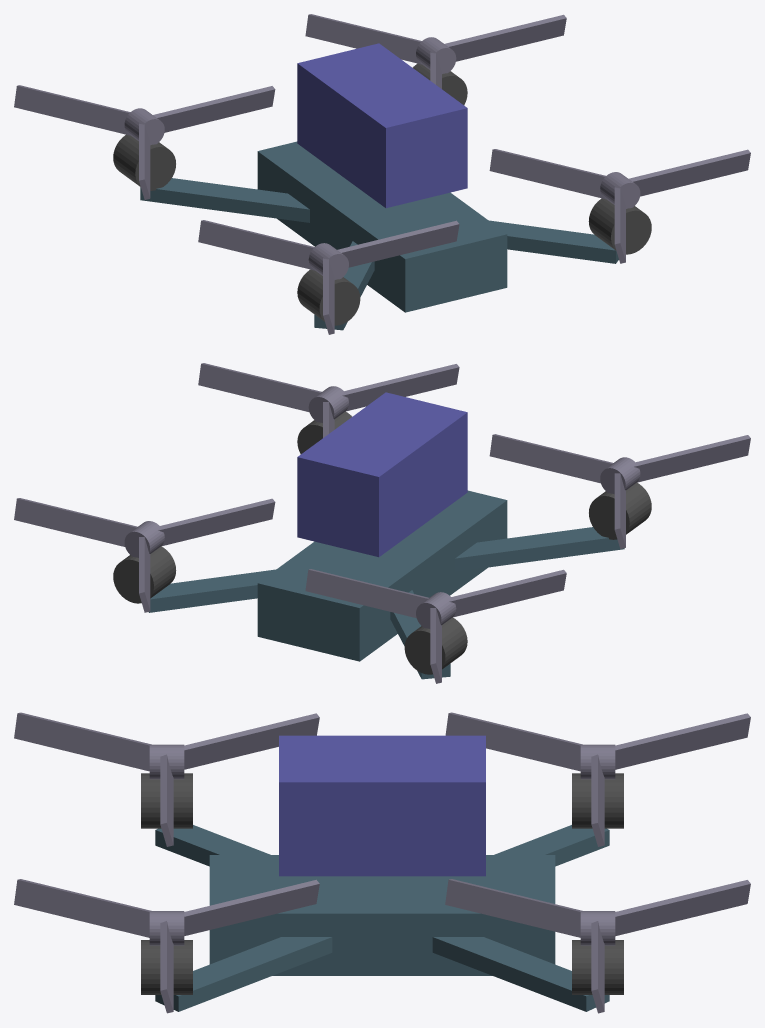
Rendered from Switchback Zero.glb.
3 renders of one model, top to bottom at view 1: azimuth 30°, elevation 25°; view 2: azimuth 150°, elevation 25°; view 3: azimuth 270°, elevation 25°, orthographic. The views are drawn at different scales.
Visible parts, largest first — view 1: battery, frame_body, prop_2, prop_3, prop_0, prop_1, arm_3, arm_0, motor_2, motor_3, motor_0, arm_2 (+1 smaller); view 2: battery, frame_body, prop_1, prop_3, prop_2, prop_0, arm_2, arm_1, motor_1, motor_3, motor_2, arm_3 (+1 smaller); view 3: battery, frame_body, prop_0, prop_1, prop_2, prop_3, arm_1, arm_0, arm_3, arm_2, motor_3, motor_2 (+2 smaller).
Part boxes in pixels (bbox=[...]): battery: bbox=[297, 43, 467, 208]; frame_body: bbox=[257, 141, 507, 312]; prop_2: bbox=[198, 220, 459, 334]; prop_3: bbox=[14, 85, 275, 199]; prop_0: bbox=[489, 149, 750, 263]; prop_1: bbox=[305, 14, 566, 88]; arm_3: bbox=[140, 178, 309, 222]; arm_0: bbox=[489, 220, 618, 263]; motor_2: bbox=[297, 269, 360, 325]; motor_3: bbox=[113, 134, 175, 190]; motor_0: bbox=[588, 198, 651, 254]; arm_2: bbox=[314, 241, 374, 330]; battery: bbox=[297, 392, 467, 557]; frame_body: bbox=[257, 490, 507, 661]; prop_1: bbox=[14, 498, 275, 612]; prop_3: bbox=[305, 569, 566, 683]; prop_2: bbox=[489, 434, 750, 548]; prop_0: bbox=[198, 363, 459, 437]; arm_2: bbox=[455, 527, 624, 571]; arm_1: bbox=[148, 569, 275, 612]; motor_1: bbox=[113, 546, 176, 603]; motor_3: bbox=[404, 617, 467, 674]; motor_2: bbox=[589, 482, 651, 539]; arm_3: bbox=[390, 590, 450, 679]; battery: bbox=[279, 735, 485, 876]; frame_body: bbox=[209, 855, 555, 975]; prop_0: bbox=[14, 879, 319, 1013]; prop_1: bbox=[445, 879, 750, 1013]; prop_2: bbox=[14, 712, 319, 846]; prop_3: bbox=[445, 712, 750, 846]; arm_1: bbox=[432, 937, 609, 1011]; arm_0: bbox=[155, 937, 332, 1011]; arm_3: bbox=[494, 825, 609, 866]; arm_2: bbox=[155, 825, 270, 866]; motor_3: bbox=[572, 773, 623, 828]; motor_2: bbox=[141, 773, 192, 828].
Bounding box in the file's own units: 0.1907 × 0.06 × 0.2133.
